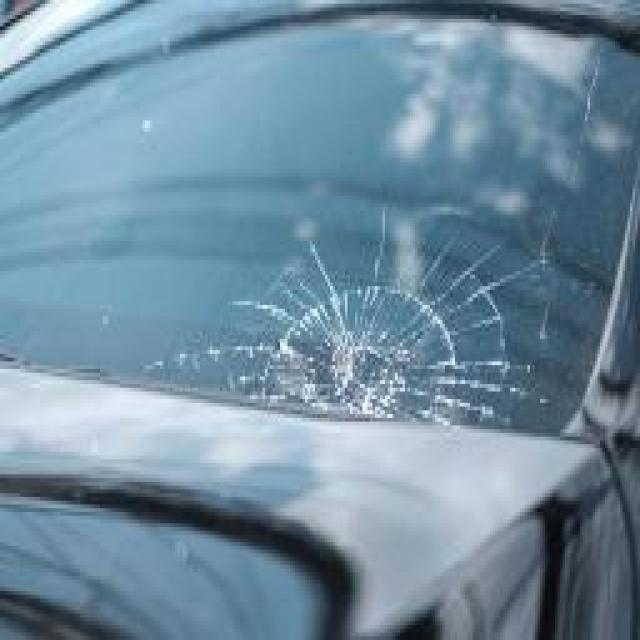Windshield: (22, 38, 640, 437)
